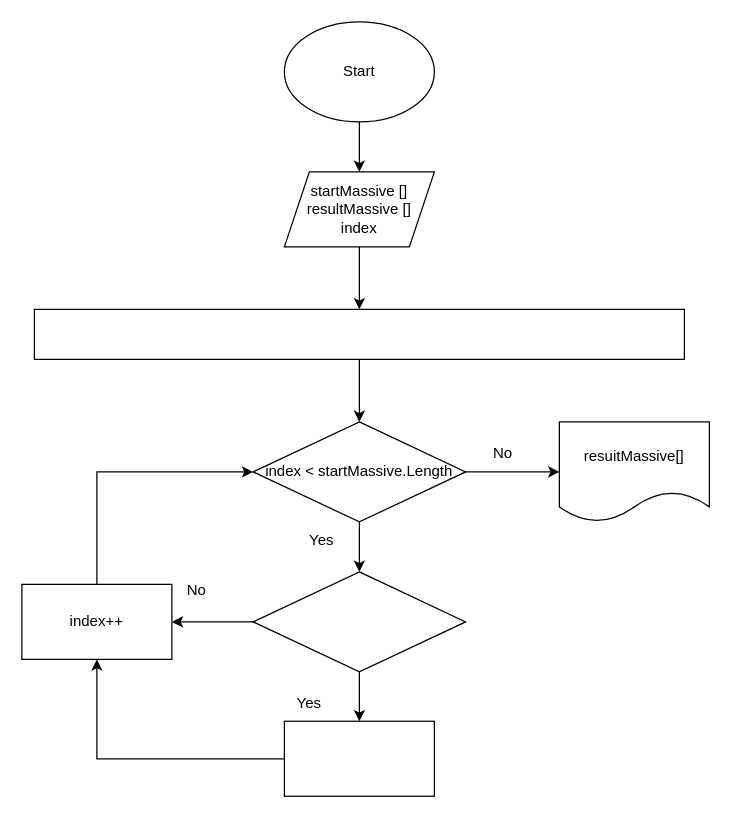
The diagram is 731 pixels wide and 819 high, and some of its shapes have lost their labels. The box of each missing label's shape, as (x1, y1, x2, y2) in pixels:
resultMassive [i] = startMassive[i]: (283, 720, 434, 796)
startMassive[i].Length <= 3: (252, 571, 466, 672)
string startMassive [program, test, analyst, product, project, "5"] index = 0: (33, 308, 684, 359)
